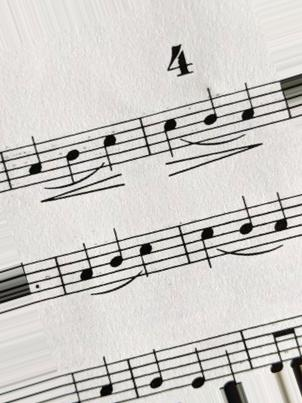note: (93, 352, 127, 401), (72, 239, 100, 295), (100, 225, 129, 278), (198, 83, 223, 139), (143, 346, 172, 394), (270, 189, 291, 253), (196, 221, 221, 272), (237, 80, 261, 133), (24, 132, 47, 186), (235, 193, 257, 248), (60, 137, 84, 185), (159, 112, 184, 157), (100, 128, 124, 172), (189, 344, 210, 391), (136, 236, 158, 279)
